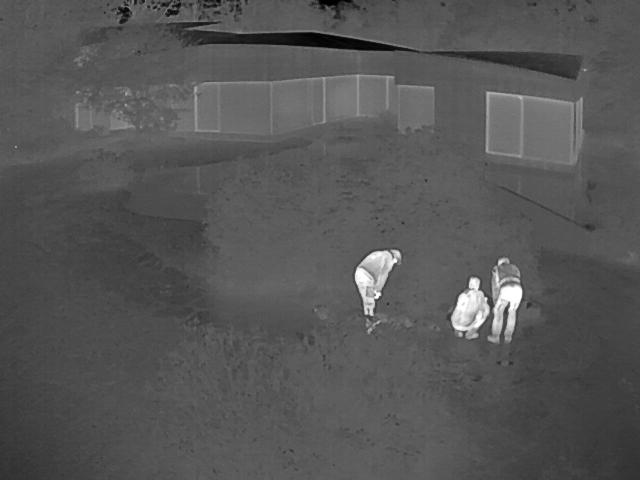person: (356, 248, 403, 319), (490, 257, 524, 343), (454, 276, 490, 338)
